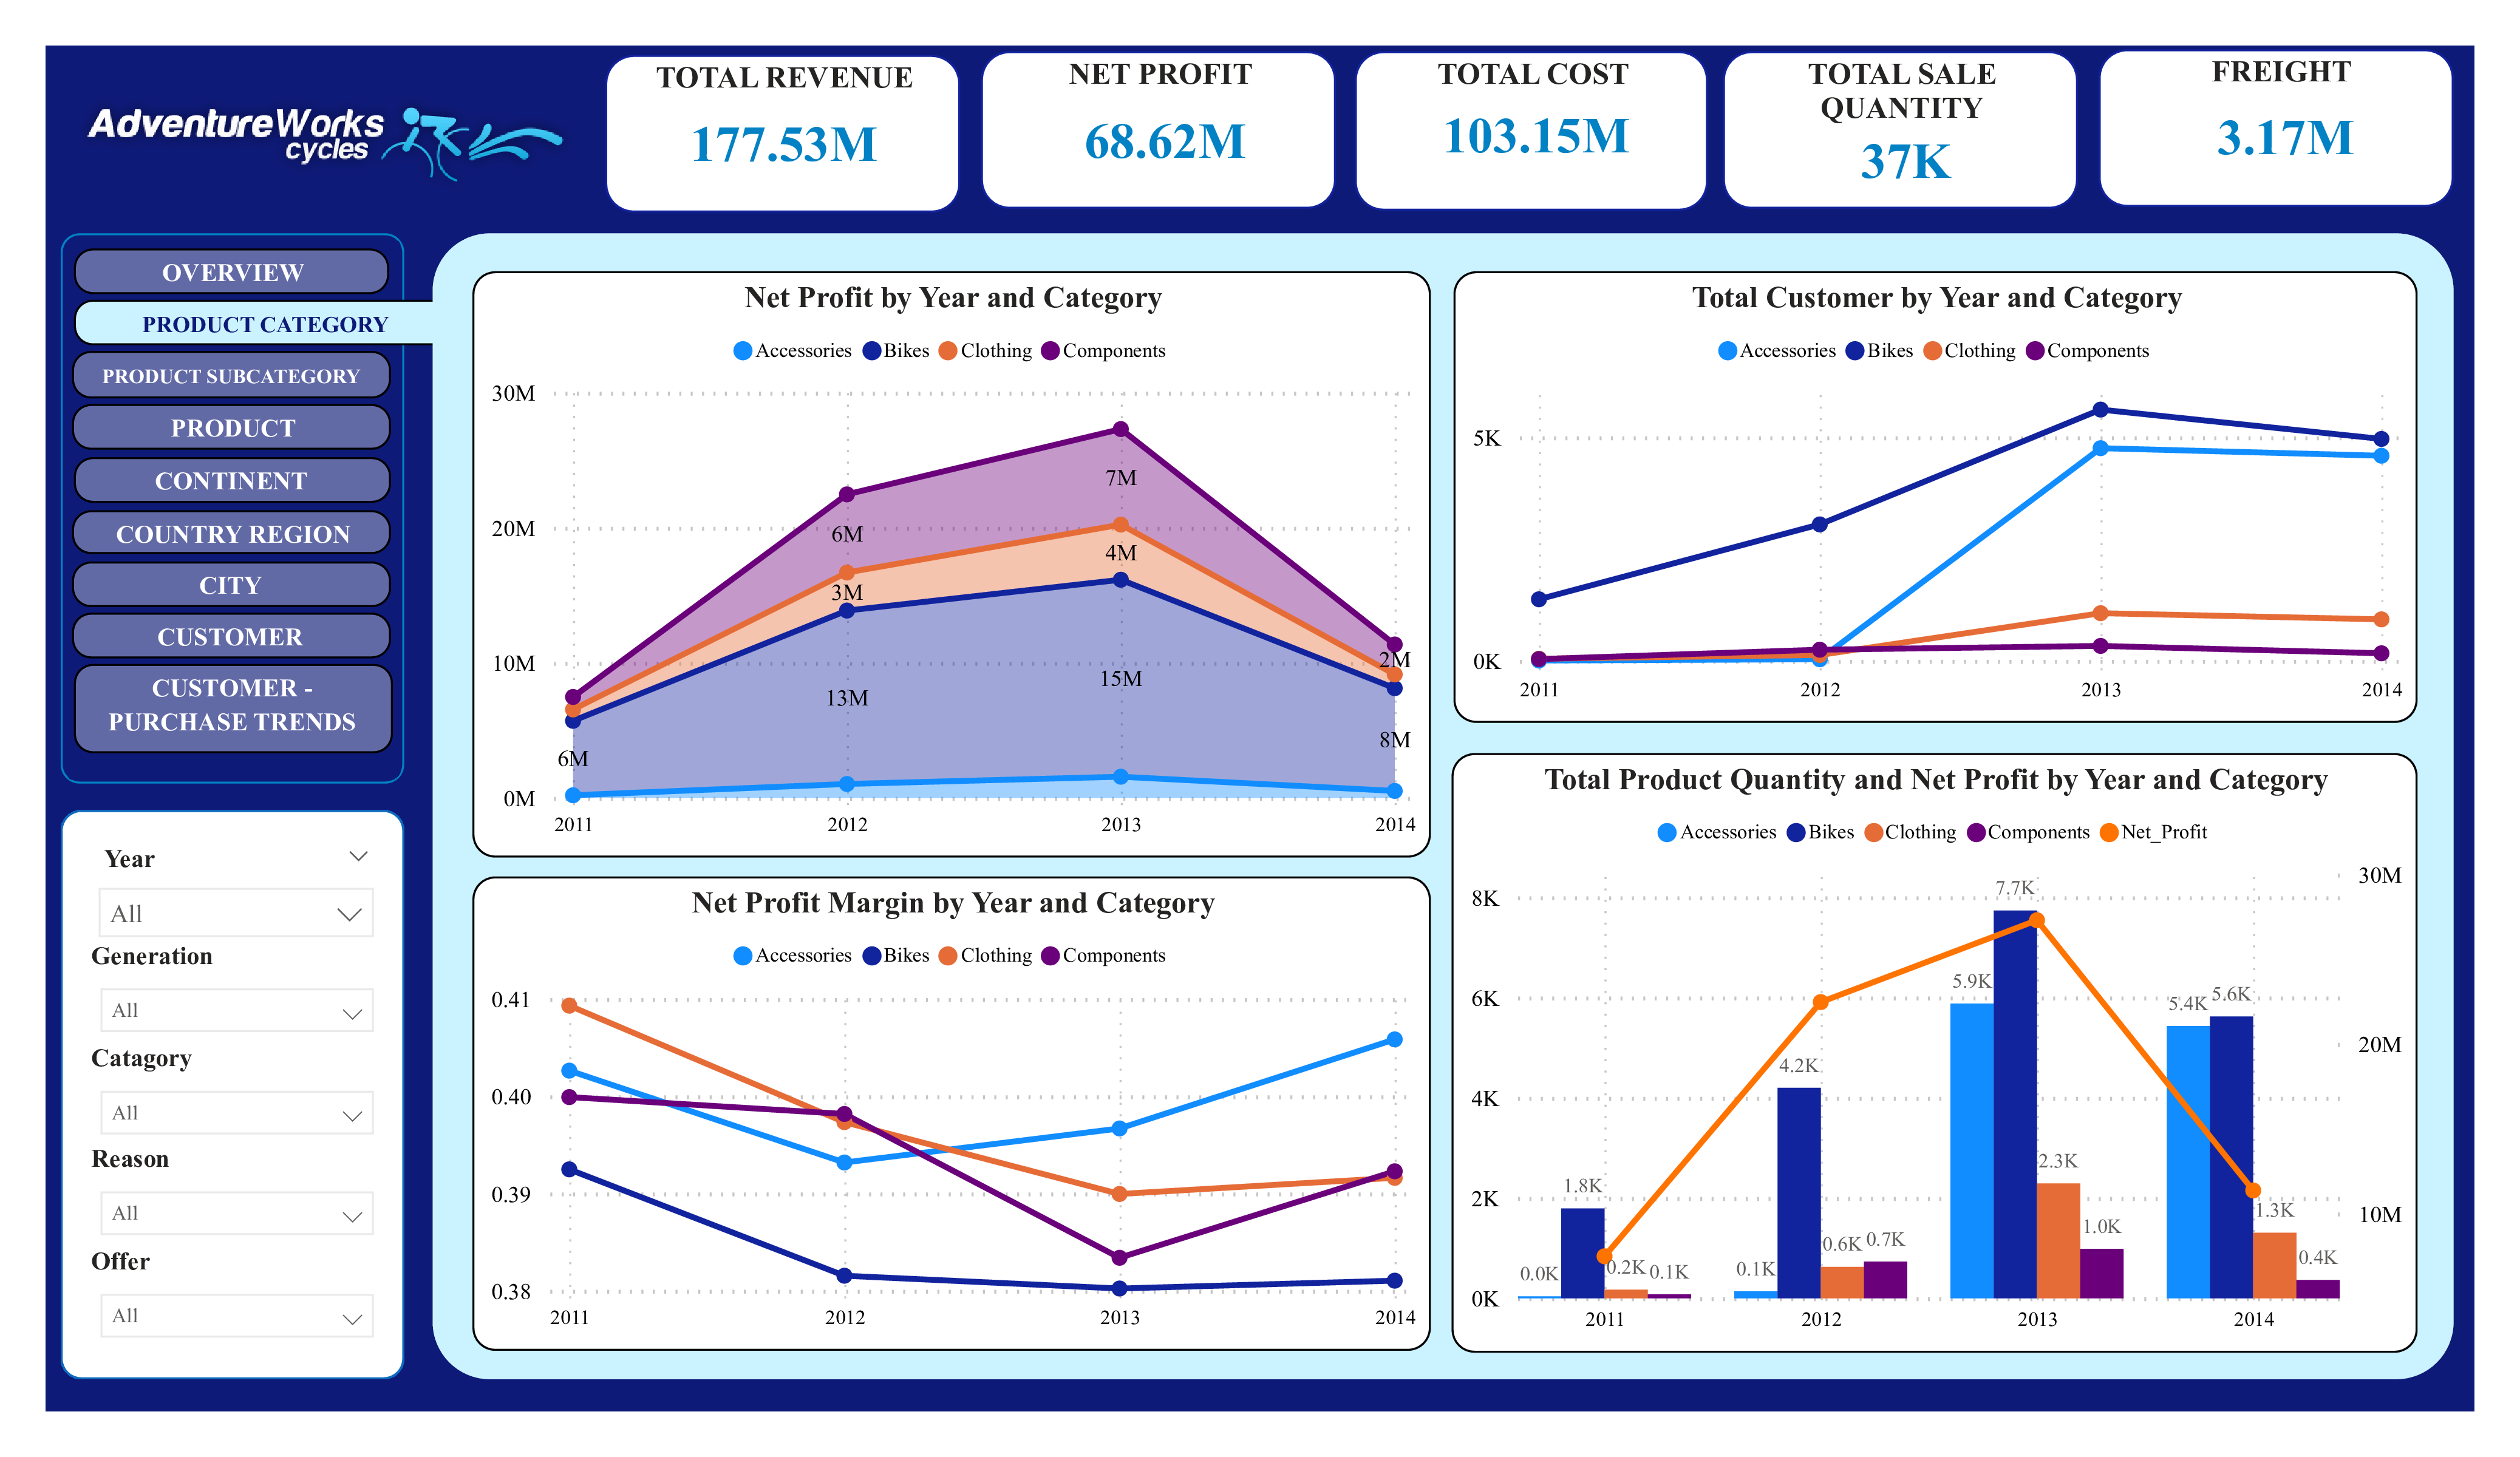

What the dashboard file says about the page in this screenshot:
{"tool":"powerbi","page":{"name":"Product Category ","canvas":[1280,720],"ordinal":1},"visuals":[{"type":"textbox","box":[1081.7,1.9,186.7,83.3],"z":0,"group":"g6"},{"type":"textbox","box":[884.2,2.5,186.7,83.3],"z":0,"group":"g5"},{"type":"textbox","box":[493.3,3.3,186.7,83.3],"z":0,"group":"g3"},{"type":"textbox","box":[690,3.3,186.4,83.6],"z":0,"group":"g4"},{"type":"textbox","box":[295.4,4.6,186.7,83.3],"z":0,"group":"g2"},{"type":"shape","box":[7.5,99,181.5,290],"z":0},{"type":"image","box":[0,22,295,61],"z":1000},{"type":"card","fields":{"Values":["Fact_SalesOrderHeader.Total_Cost"]},"box":[710.6,31.8,147.5,33.8],"z":1000,"group":"g4"},{"type":"card","fields":{"Values":["Sum(Fact_SalesOrderHeader.Freight_4_order)"]},"box":[1105.7,33.2,147.5,33.1],"z":1000,"group":"g6"},{"type":"card","fields":{"Values":["Fact_SalesOrderHeader.Net_Profit"]},"box":[515,35,147.5,33.1],"z":1000,"group":"g7"},{"type":"card","fields":{"Values":["Fact_SalesOrderHeader.Total_Revenue"]},"box":[314.5,35.5,147.5,33.8],"z":1000,"group":"g2"},{"type":"card","fields":{"Values":["Fact_SalesOrderHeader.Total_Sale_Quantity"]},"box":[906,44.7,147.5,33.8],"z":1000,"group":"g5"},{"type":"textbox","box":[14.7,106.7,166.7,24],"z":2000},{"type":"textbox","box":[14.7,134,200.7,24],"z":3000},{"type":"textbox","box":[14.4,161.5,167.4,24.1],"z":4000},{"type":"textbox","box":[14.4,188.9,167.4,24.4],"z":5000},{"type":"textbox","box":[14.7,216.8,167.4,23.7],"z":6000},{"type":"textbox","box":[14.2,244.7,167.4,23.7],"z":7000},{"type":"textbox","box":[14.2,272.1,167.4,23.7],"z":8000},{"type":"textbox","box":[14.2,299.5,167.4,23.7],"z":9000},{"type":"textbox","box":[15,326.1,167.8,47.2],"z":10000},{"type":"shape","box":[8.2,402.5,181.2,300],"z":11000},{"type":"slicer","fields":{"Values":["Datetime.OrderDate.Variation.Date Hierarchy.Year"]},"box":[18.2,416.2,165.2,56.5],"z":11000,"group":"g1"},{"type":"group","id":"g1","title":"Group 1","box":[18.2,416.2,165,272.5],"z":12000},{"type":"slicer","title":"Catagory ","fields":{"Values":["ProductCategory.Name"]},"box":[19,526.6,164.4,52.7],"z":12000,"group":"g1"},{"type":"shape","box":[203.8,98.8,1065,603.8],"z":13000},{"type":"slicer","title":"Reason ","fields":{"Values":["SalesReason.Name"]},"box":[19,579.3,164.4,54],"z":13000,"group":"g1"},{"type":"stackedAreaChart","title":"Net Profit by Year and Category ","fields":{"Category":["Year.Year"],"Series":["ProductCategory.Name"],"Y":["Fact_SalesOrderHeader.Net_Profit"]},"box":[225.5,119.1,504.5,309.1],"z":14000},{"type":"slicer","title":"Offer ","fields":{"Values":["SpecialOffer.Type"]},"box":[19,633.3,164.4,55.2],"z":14000,"group":"g1"},{"type":"lineClusteredColumnComboChart","title":"Total Product Quantity and Net Profit by Year and Category ","fields":{"Category":["Year.Year"],"Y":["Fact_SalesOrderHeader.Total_Product_Sale_Quantity"],"Series":["ProductCategory.Name"],"Y2":["Fact_SalesOrderHeader.Net_Profit"]},"box":[741.4,372.9,508.6,315.7],"z":15000},{"type":"slicer","title":"Generation","fields":{"Values":["Sales Customer.Generation"]},"box":[19,472.7,164.4,55.2],"z":15000,"group":"g1"},{"type":"lineChart","title":"Total Customer by Year and Category ","fields":{"Category":["Year.Year"],"Y":["Fact_SalesOrderHeader.Total_Customer"],"Series":["ProductCategory.Name"]},"box":[742,119,508,238],"z":16000},{"type":"lineChart","title":"Net Profit Margin by Year and Category ","fields":{"Y":["Fact_SalesOrderHeader.Net_Profit_Margin"],"Category":["Year.Year"],"Series":["ProductCategory.Name"]},"box":[225.5,438.2,504.5,250],"z":17000},{"type":"group","id":"g2","title":"Group 2","box":[295.4,4.6,186.7,83.3],"z":18000},{"type":"group","id":"g3","title":"Group 2","box":[493.3,3.3,186.7,83.3],"z":19000},{"type":"group","id":"g4","title":"Group 2","box":[690,3.3,186.4,83.6],"z":20000},{"type":"group","id":"g5","title":"Group 7","box":[884.2,2.5,186.7,83.3],"z":21000},{"type":"group","id":"g6","title":"Group 8","box":[1081.7,1.9,186.7,83.3],"z":22000},{"type":"group","id":"g7","title":"Group 5","box":[515,35,147.5,33.1],"z":22001,"group":"g3"}]}

Visuals, with their boxes on the page's 1280x720 design canvas (x1, y1, x2, y2). These are canvas units, not pixel positions in the 2520x1457 screenshot, which may show the page scaled, cropped or inside an application window:
textbox: Rect(1082, 2, 1268, 85)
textbox: Rect(884, 2, 1071, 86)
textbox: Rect(493, 3, 680, 87)
textbox: Rect(690, 3, 876, 87)
textbox: Rect(295, 5, 482, 88)
shape: Rect(8, 99, 189, 389)
image: Rect(0, 22, 295, 83)
card - Fact_SalesOrderHeader.Total_Cost: Rect(711, 32, 858, 66)
card - Sum(Fact_SalesOrderHeader.Freight_4_order): Rect(1106, 33, 1253, 66)
card - Fact_SalesOrderHeader.Net_Profit: Rect(515, 35, 662, 68)
card - Fact_SalesOrderHeader.Total_Revenue: Rect(314, 36, 462, 69)
card - Fact_SalesOrderHeader.Total_Sale_Quantity: Rect(906, 45, 1054, 78)
textbox: Rect(15, 107, 181, 131)
textbox: Rect(15, 134, 215, 158)
textbox: Rect(14, 162, 182, 186)
textbox: Rect(14, 189, 182, 213)
textbox: Rect(15, 217, 182, 240)
textbox: Rect(14, 245, 182, 268)
textbox: Rect(14, 272, 182, 296)
textbox: Rect(14, 300, 182, 323)
textbox: Rect(15, 326, 183, 373)
shape: Rect(8, 402, 189, 702)
slicer - Datetime.OrderDate.Variation.Date Hierarchy.Year: Rect(18, 416, 183, 473)
"Group 1" group: Rect(18, 416, 183, 689)
"Catagory " slicer: Rect(19, 527, 183, 579)
shape: Rect(204, 99, 1269, 703)
"Reason " slicer: Rect(19, 579, 183, 633)
"Net Profit by Year and Category " stackedAreaChart: Rect(226, 119, 730, 428)
"Offer " slicer: Rect(19, 633, 183, 688)
"Total Product Quantity and Net Profit by Year and Category " lineClusteredColumnComboChart: Rect(741, 373, 1250, 689)
"Generation" slicer: Rect(19, 473, 183, 528)
"Total Customer by Year and Category " lineChart: Rect(742, 119, 1250, 357)
"Net Profit Margin by Year and Category " lineChart: Rect(226, 438, 730, 688)
"Group 2" group: Rect(295, 5, 482, 88)
"Group 2" group: Rect(493, 3, 680, 87)
"Group 2" group: Rect(690, 3, 876, 87)
"Group 7" group: Rect(884, 2, 1071, 86)
"Group 8" group: Rect(1082, 2, 1268, 85)
"Group 5" group: Rect(515, 35, 662, 68)
